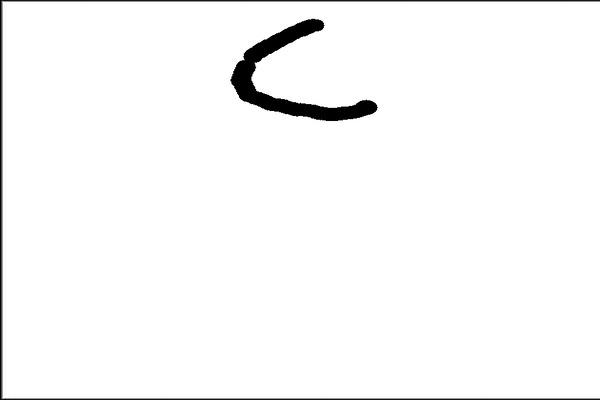C: (226, 12, 385, 125)
